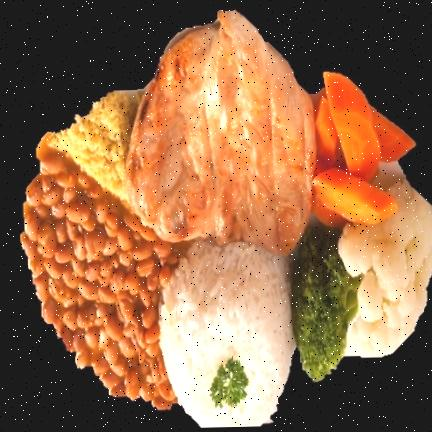beans: (21, 137, 192, 403)
broccoli: (284, 214, 359, 379)
carrot: (313, 70, 413, 228)
cauliflower: (339, 161, 432, 355)
chicken: (124, 10, 313, 258)
rice: (161, 240, 295, 428)
